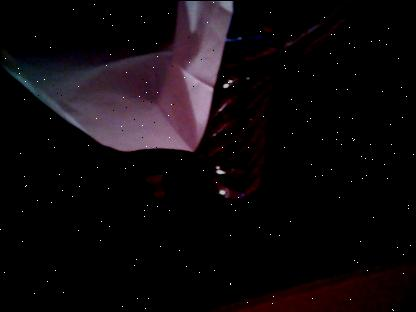Plastic Bottle: (182, 0, 292, 246)
